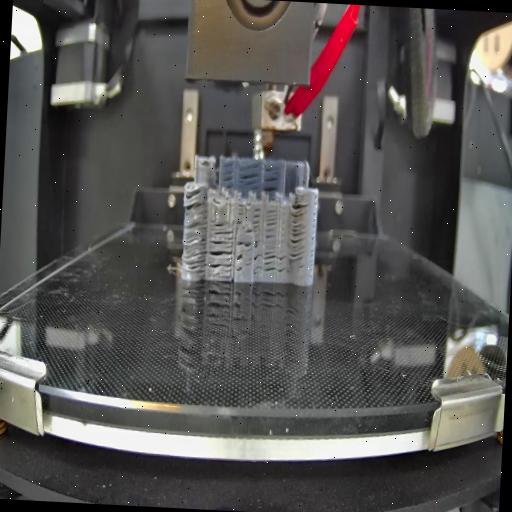cracks: (182, 223, 208, 275), (290, 202, 308, 260), (208, 238, 234, 278), (264, 166, 280, 194), (239, 170, 260, 190), (264, 208, 277, 240), (184, 190, 204, 209), (264, 247, 278, 274), (222, 166, 236, 192), (252, 240, 262, 276), (214, 222, 234, 238), (252, 208, 262, 230), (235, 204, 245, 225), (278, 252, 288, 273), (236, 252, 244, 277), (238, 239, 252, 249), (246, 228, 253, 234)
